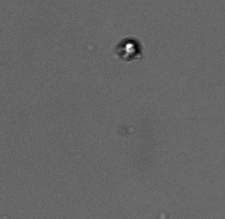Living Cell: (117, 36, 140, 58)
